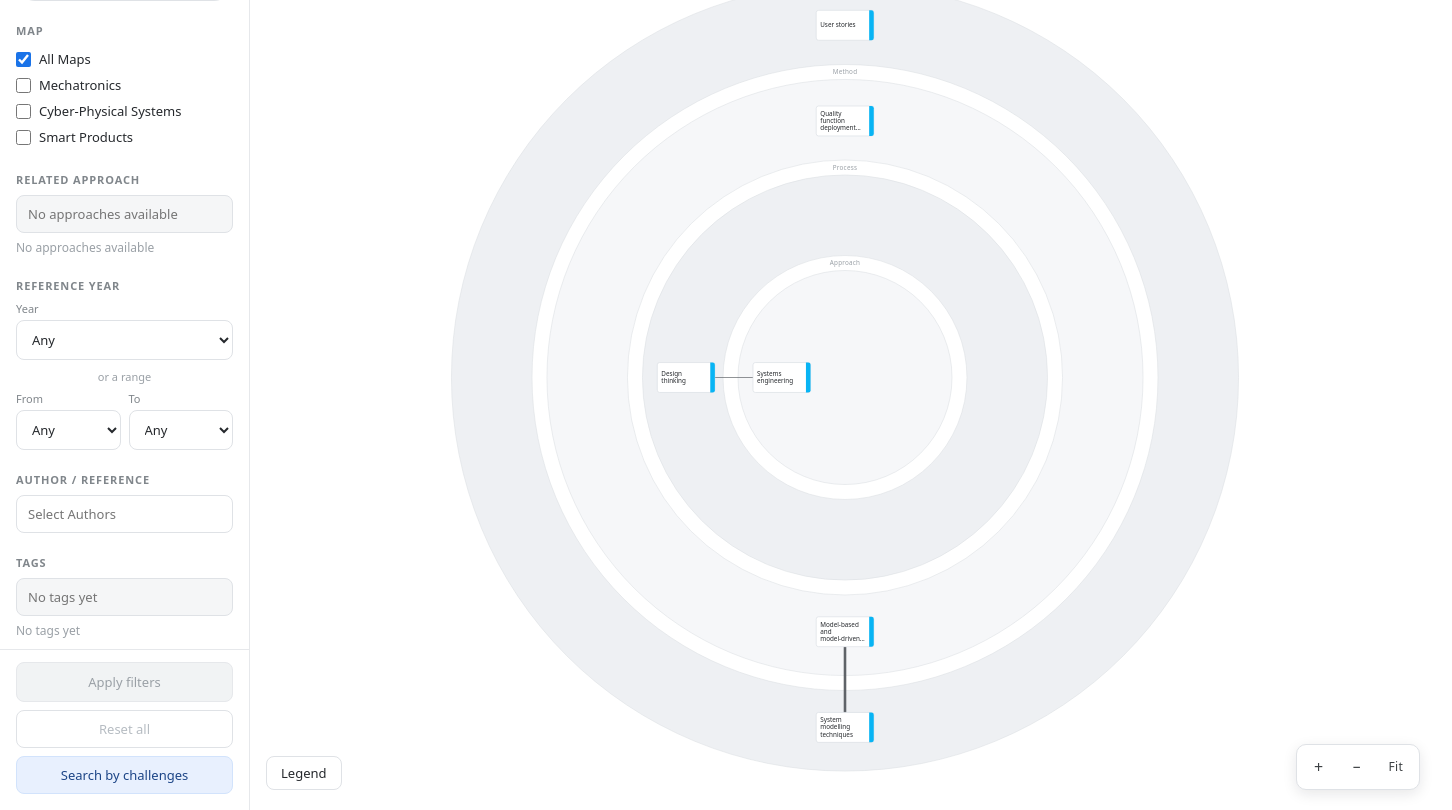
Test: the results panel › heads each section with the challenge and its block count
(page scrolled)
Click the button "Search by challenges" at [124, 775], box [16,756,233,794]
(page scrolled)
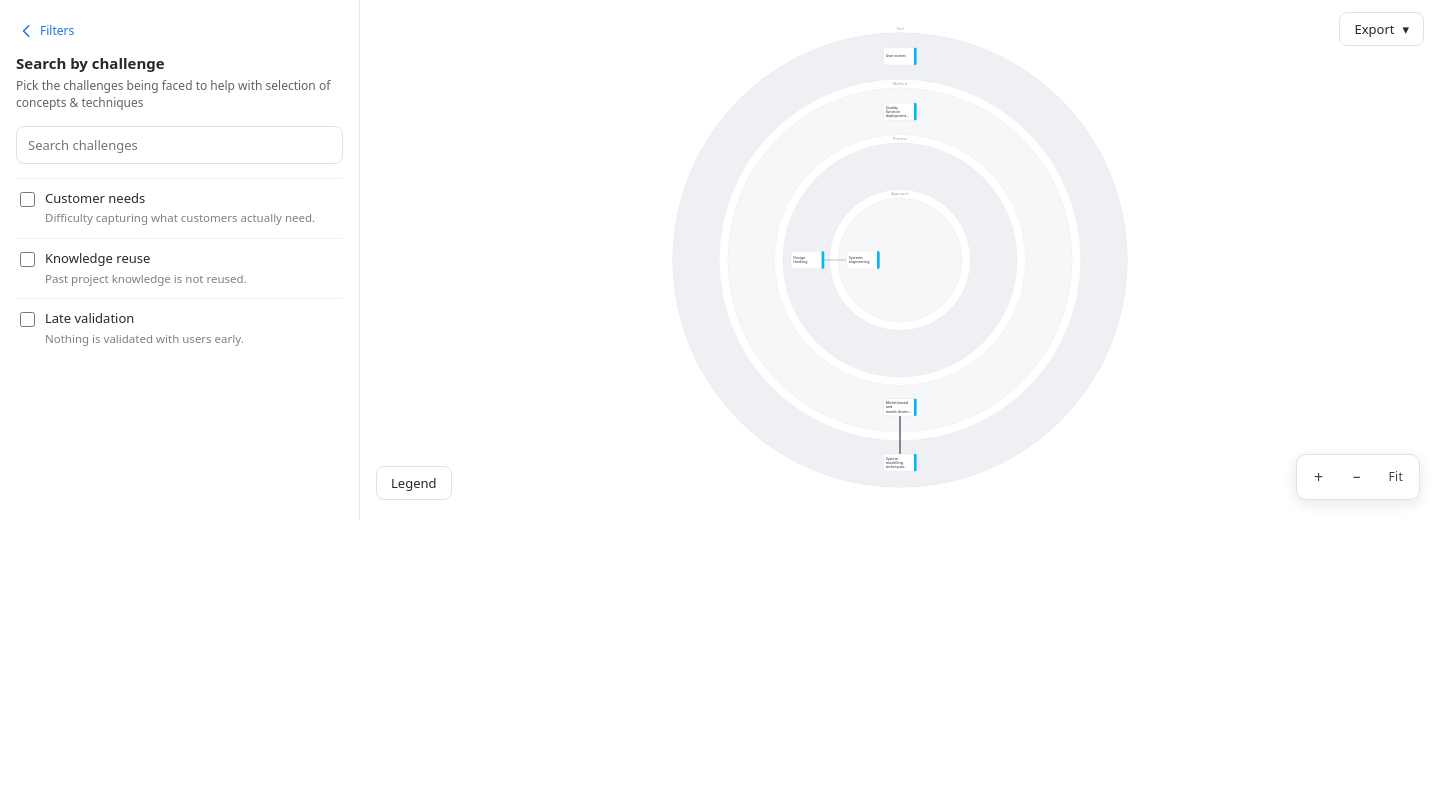
Click the 1st checkbox at [28, 199], box [20,192,35,207]
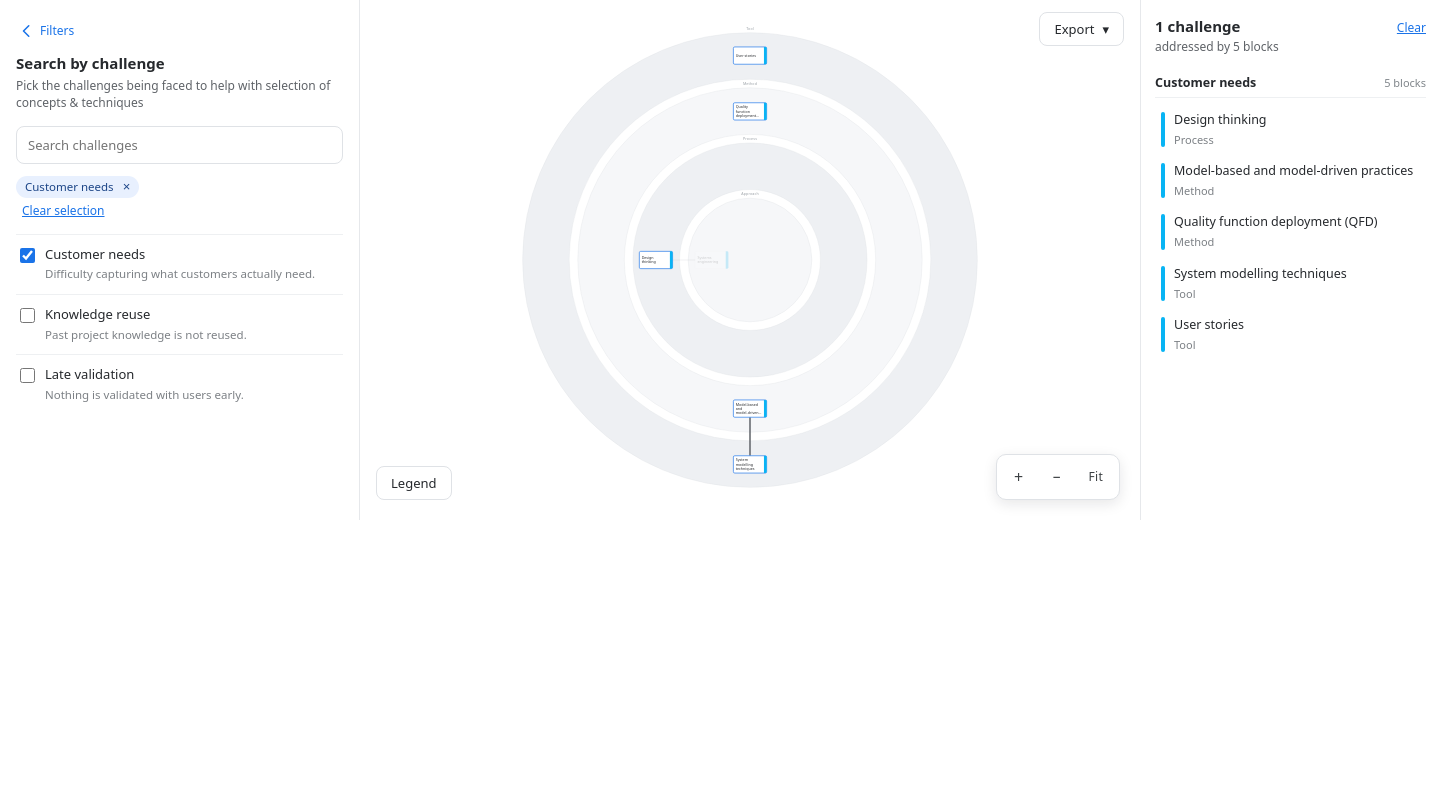
Expected: the heading "Customer needs 5 blocks" is shown, [1155,75,1426,98]
